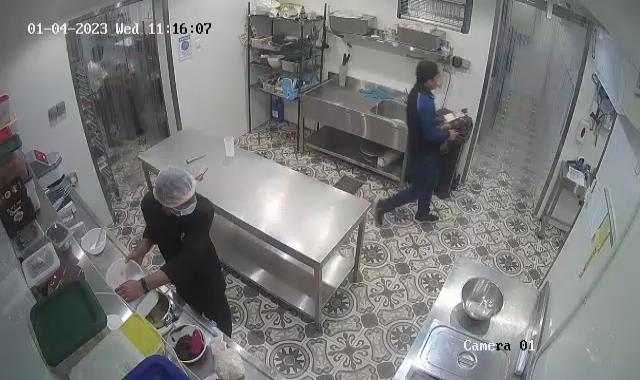hairnet: (154, 167, 196, 212)
no_hairnet: (413, 61, 439, 87)
